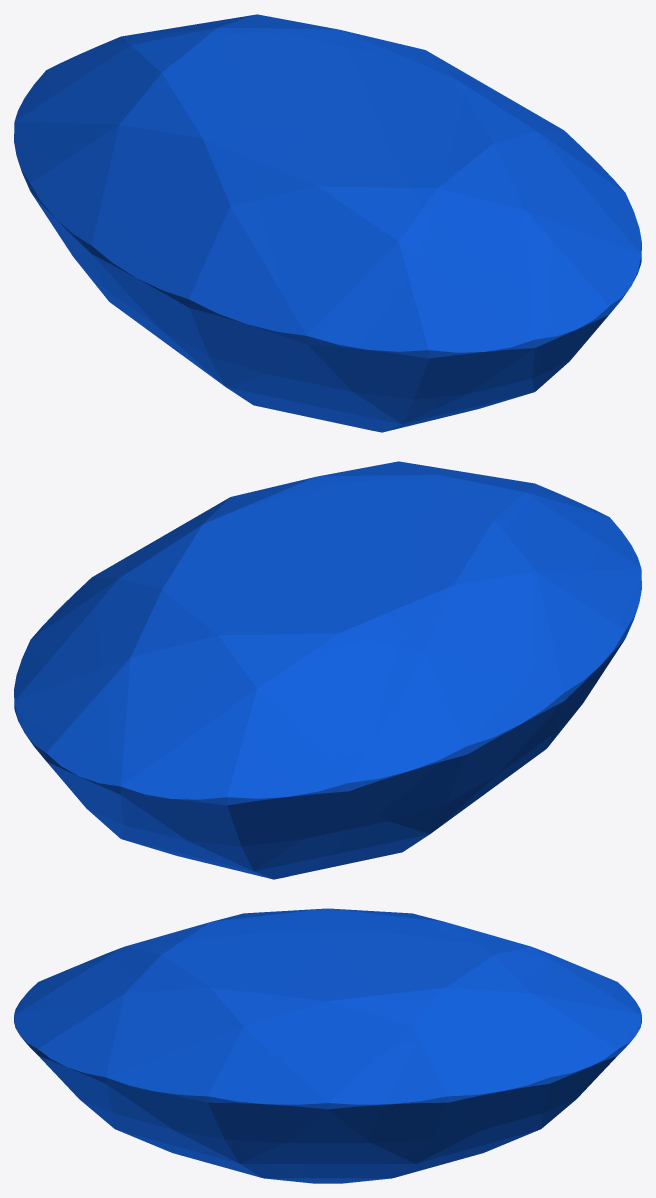
The model's file is gem.glb.
3 renders of one model, top to bottom at view 1: azimuth 30°, elevation 25°; view 2: azimuth 150°, elevation 25°; view 3: azimuth 270°, elevation 25°, orthographic. The views are drawn at different scales.
Visible parts, largest first — view 1: defaultMaterial; view 2: defaultMaterial; view 3: defaultMaterial.
Part boxes in pixels (<box>): defaultMaterial: <box>14,14,641,432</box>; defaultMaterial: <box>14,461,641,879</box>; defaultMaterial: <box>14,908,641,1183</box>.
Size of the model in its own units: 1.36 by 0.8313 by 2.07.
1 material, 1 textured.
